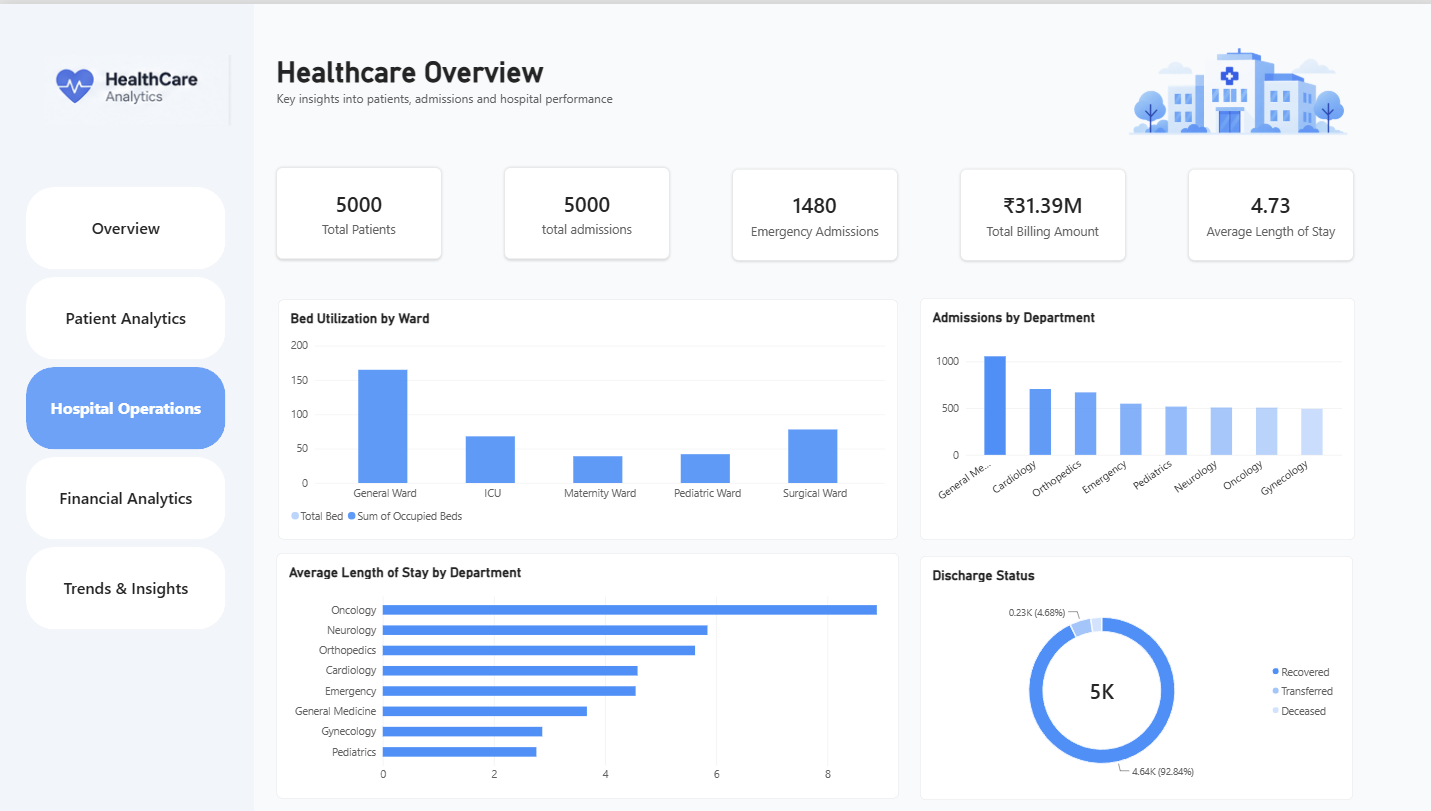

The dashboard page shown, as its layout file describes it:
{"tool":"powerbi","page":{"name":"Hospital Operations","canvas":[1920,1080],"ordinal":2},"visuals":[{"type":"card","fields":{"Values":["healthcare_dataset_clean.Total Patients"]},"box":[370,217.5,220,122],"z":0,"group":"g1"},{"type":"textbox","title":"Healthcare Overview","box":[370,68,550,150],"z":1000,"group":"g1"},{"type":"card","fields":{"Values":["healthcare_dataset_clean.Average Length of Stay"]},"box":[1585,220,220,122],"z":2000,"group":"g1"},{"type":"card","fields":{"Values":["healthcare_dataset_clean.Total Billing Amount"]},"box":[1281.2,220,220,122],"z":3000,"group":"g1"},{"type":"card","fields":{"Values":["healthcare_dataset_clean.total admissions"]},"box":[673.8,217.5,220,122],"z":4000,"group":"g1"},{"type":"card","fields":{"Values":["healthcare_dataset_clean.Emergency Admissions"]},"box":[977.5,220,220,122],"z":5000,"group":"g1"},{"type":"image","box":[1453.3,40,397.5,150],"z":6000,"group":"g1"},{"type":"columnChart","title":"Bed Utilization by Ward","fields":{"Y":["Table.Total Bed","Sum(Table.Occupied Beds)"],"Category":["Table.ward"]},"box":[372,394,826.7,320],"z":7000,"group":"g1"},{"type":"shape","box":[0,0,340,1080],"z":8000,"group":"g1"},{"type":"clusteredColumnChart","title":"Admissions by Department","fields":{"Category":["healthcare_dataset_clean.Department"],"Y":["healthcare_dataset_clean.total admissions"]},"box":[1227.5,392.5,580,322.5],"z":9000,"group":"g1"},{"type":"clusteredBarChart","title":"Average Length of Stay by Department","fields":{"Category":["healthcare_dataset_clean.Department"],"Y":["healthcare_dataset_clean.Average Length of Stay"]},"box":[370,732.5,830,327.5],"z":10000,"group":"g1"},{"type":"donutChart","title":"Discharge Status","fields":{"Y":["CountNonNull(healthcare_dataset_clean.Patient_ID)"],"Category":["healthcare_dataset_clean.Discharge_Status"]},"box":[1227.5,735,577.5,325],"z":12000,"group":"g1"},{"type":"image","box":[60,40,250,150],"z":13000,"group":"g1"},{"type":"textbox","box":[142,262,108,42],"z":14000,"group":"g1"},{"type":"pageNavigator","box":[36.7,243.3,266.7,590],"z":15000,"group":"g1"},{"type":"group","id":"g1","title":"Group 1","box":[0,0,1850.8,1080],"z":15001}]}

Visuals, with their boxes on the page's 1920x1080 design canvas (x1, y1, x2, y2). These are canvas units, not pixel positions in the 1431x811 screenshot, which may show the page scaled, cropped or inside an application window:
card - healthcare_dataset_clean.Total Patients: [370,218,590,340]
"Healthcare Overview" textbox: [370,68,920,218]
card - healthcare_dataset_clean.Average Length of Stay: [1585,220,1805,342]
card - healthcare_dataset_clean.Total Billing Amount: [1281,220,1501,342]
card - healthcare_dataset_clean.total admissions: [674,218,894,340]
card - healthcare_dataset_clean.Emergency Admissions: [978,220,1198,342]
image: [1453,40,1851,190]
"Bed Utilization by Ward" columnChart: [372,394,1199,714]
shape: [0,0,340,1080]
"Admissions by Department" clusteredColumnChart: [1228,392,1808,715]
"Average Length of Stay by Department" clusteredBarChart: [370,732,1200,1060]
"Discharge Status" donutChart: [1228,735,1805,1060]
image: [60,40,310,190]
textbox: [142,262,250,304]
pageNavigator: [37,243,303,833]
"Group 1" group: [0,0,1851,1080]
